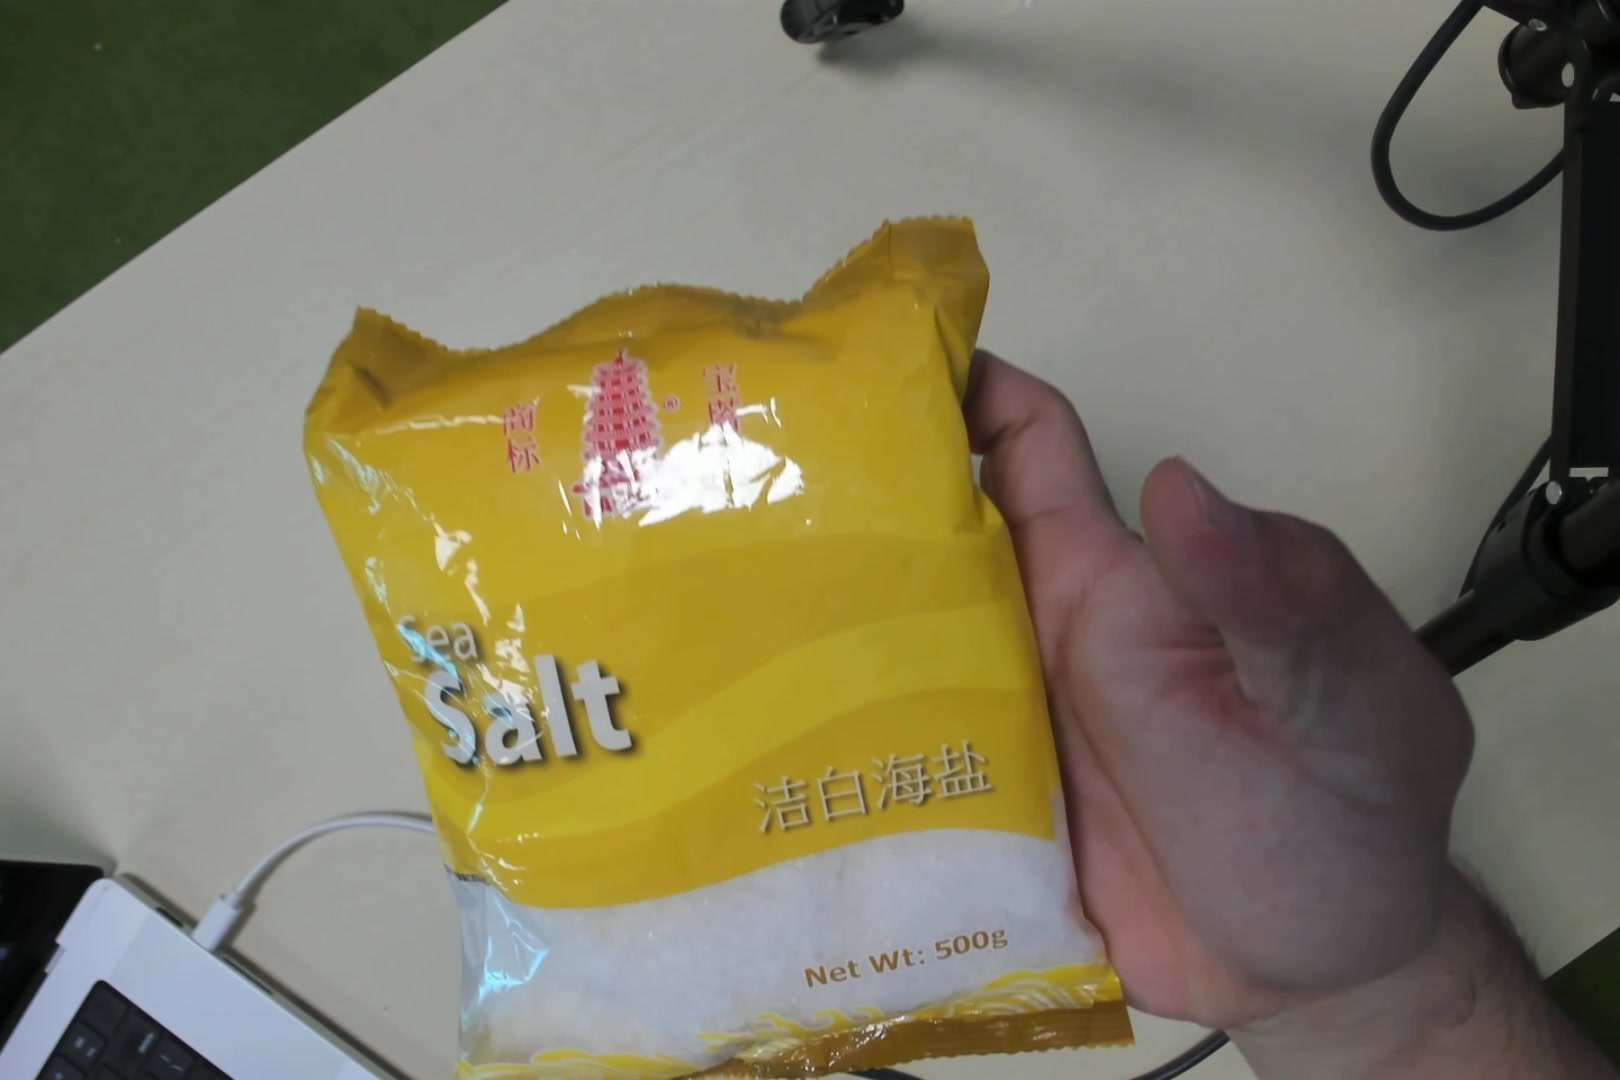Salt_500-599g_Halal_NonHealthy: (400, 317, 1047, 1062)
